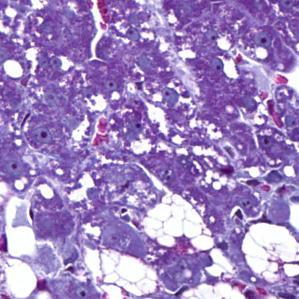ballooning: (139, 189, 216, 256), (80, 247, 159, 296), (241, 218, 297, 283)
